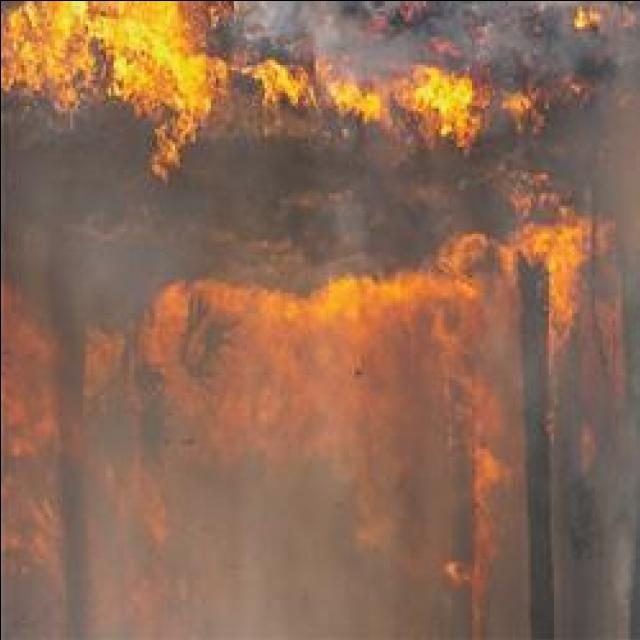fire: (0, 0, 92, 90), (110, 0, 178, 95), (322, 278, 426, 322), (167, 52, 213, 122), (414, 66, 474, 119), (549, 222, 575, 304)
